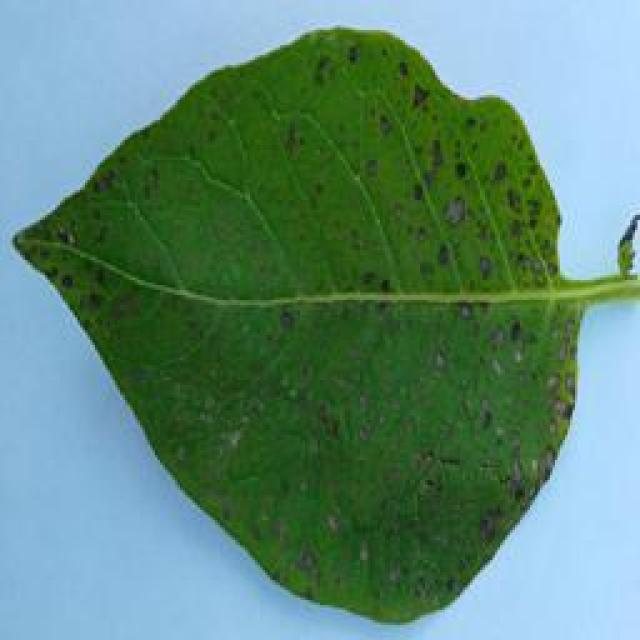Potato_Early_Blight: (0, 20, 628, 640)
